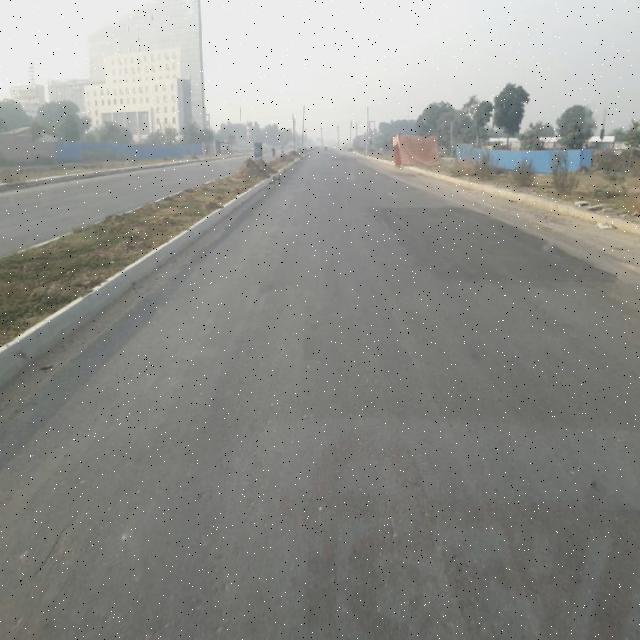D00: (22, 495, 105, 581)
